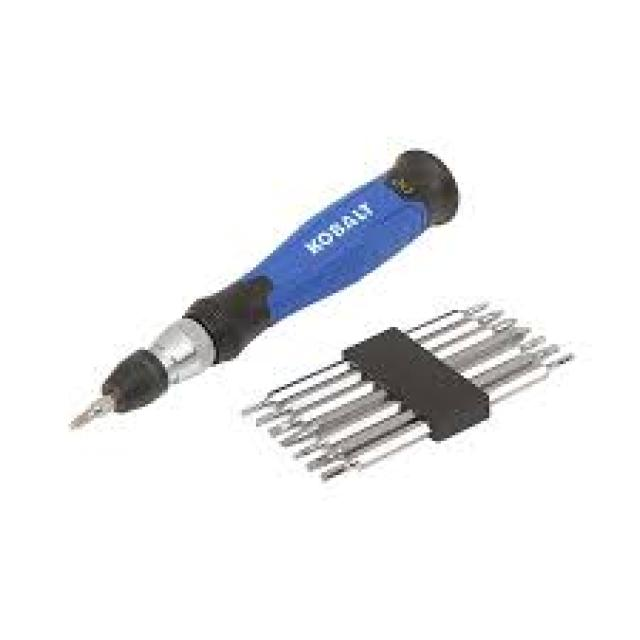screw driver: (21, 113, 507, 462)
